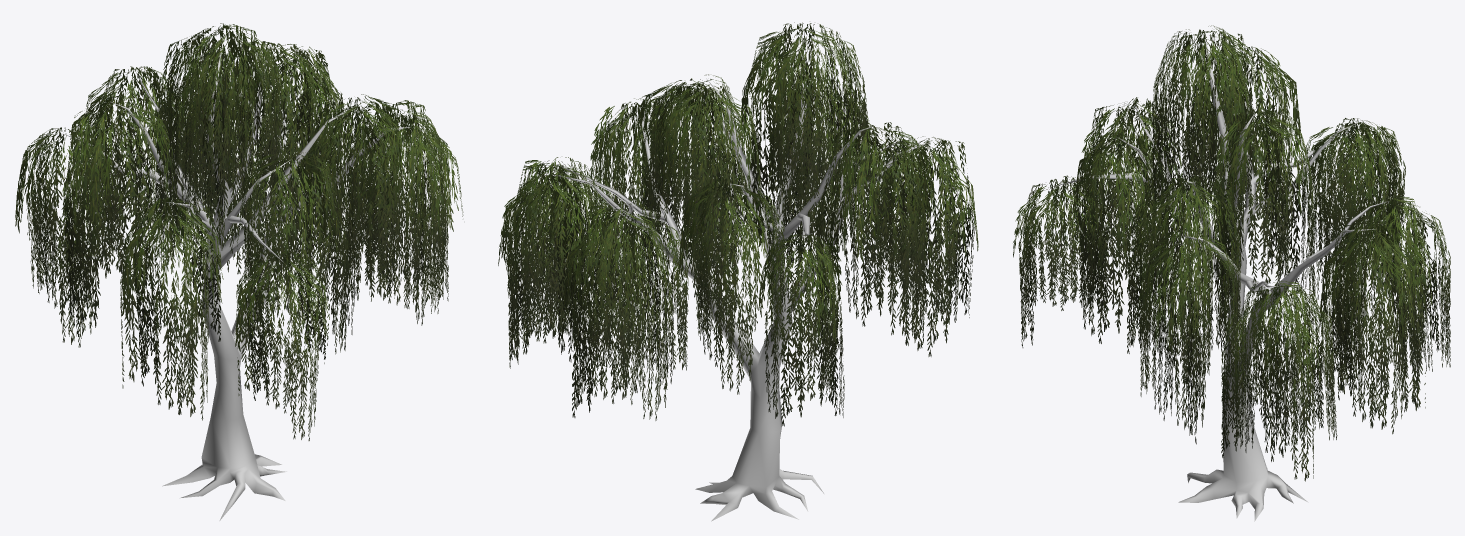
The model's file is TY_liushu_03.FBX.
The picture shows the model from 3 angles, left to right: view 1: azimuth 30°, elevation 25°; view 2: azimuth 150°, elevation 25°; view 3: azimuth 270°, elevation 25°; orthographic projection. The views are drawn at different scales.
Visible parts, largest first — view 1: TY_liushu_03; view 2: TY_liushu_03; view 3: TY_liushu_03.
Boxes of the visible parts, box(x1,y1,x2,y2) form: TY_liushu_03: box(15, 23, 463, 520); TY_liushu_03: box(498, 22, 978, 521); TY_liushu_03: box(1013, 25, 1450, 521).
Bounding box in the file's own units: 687 × 796 × 687.
